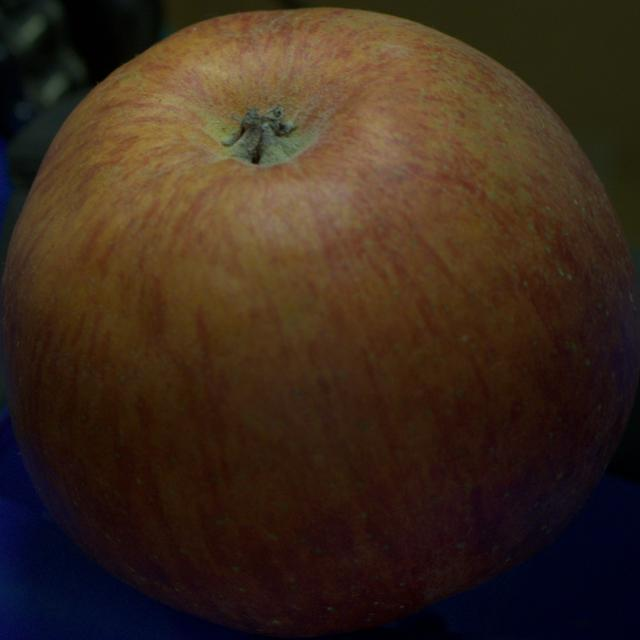apple: (0, 9, 639, 636)
